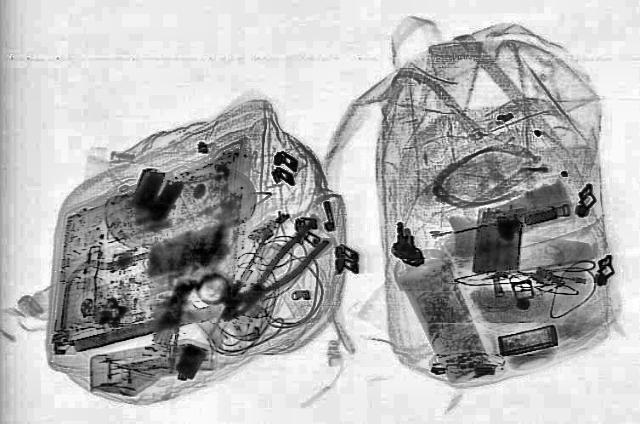Pliers: (208, 222, 339, 328)
